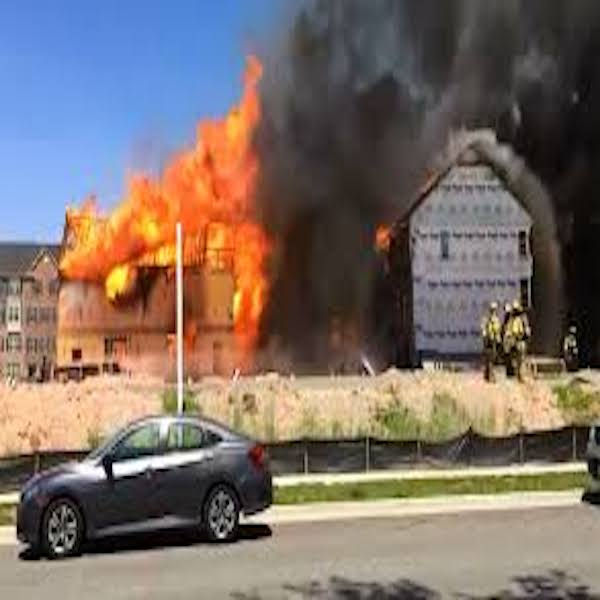fire: (75, 183, 272, 280), (191, 78, 330, 187), (235, 285, 295, 361)
